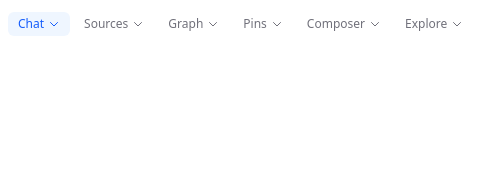
Test: ConversationTabs › shows correct dropdown items for Sources tab
Click the button "Sources" at (114, 24), box left=74, top=12, right=154, bottom=36
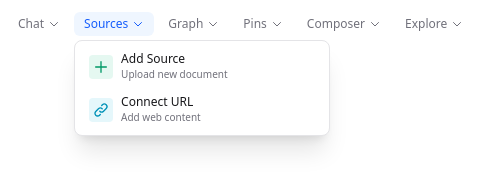
Expected: the text "Add Source" is shown, left=121, top=50, right=185, bottom=67
Expected: the text "Connect URL" is shown, left=121, top=93, right=193, bottom=110
